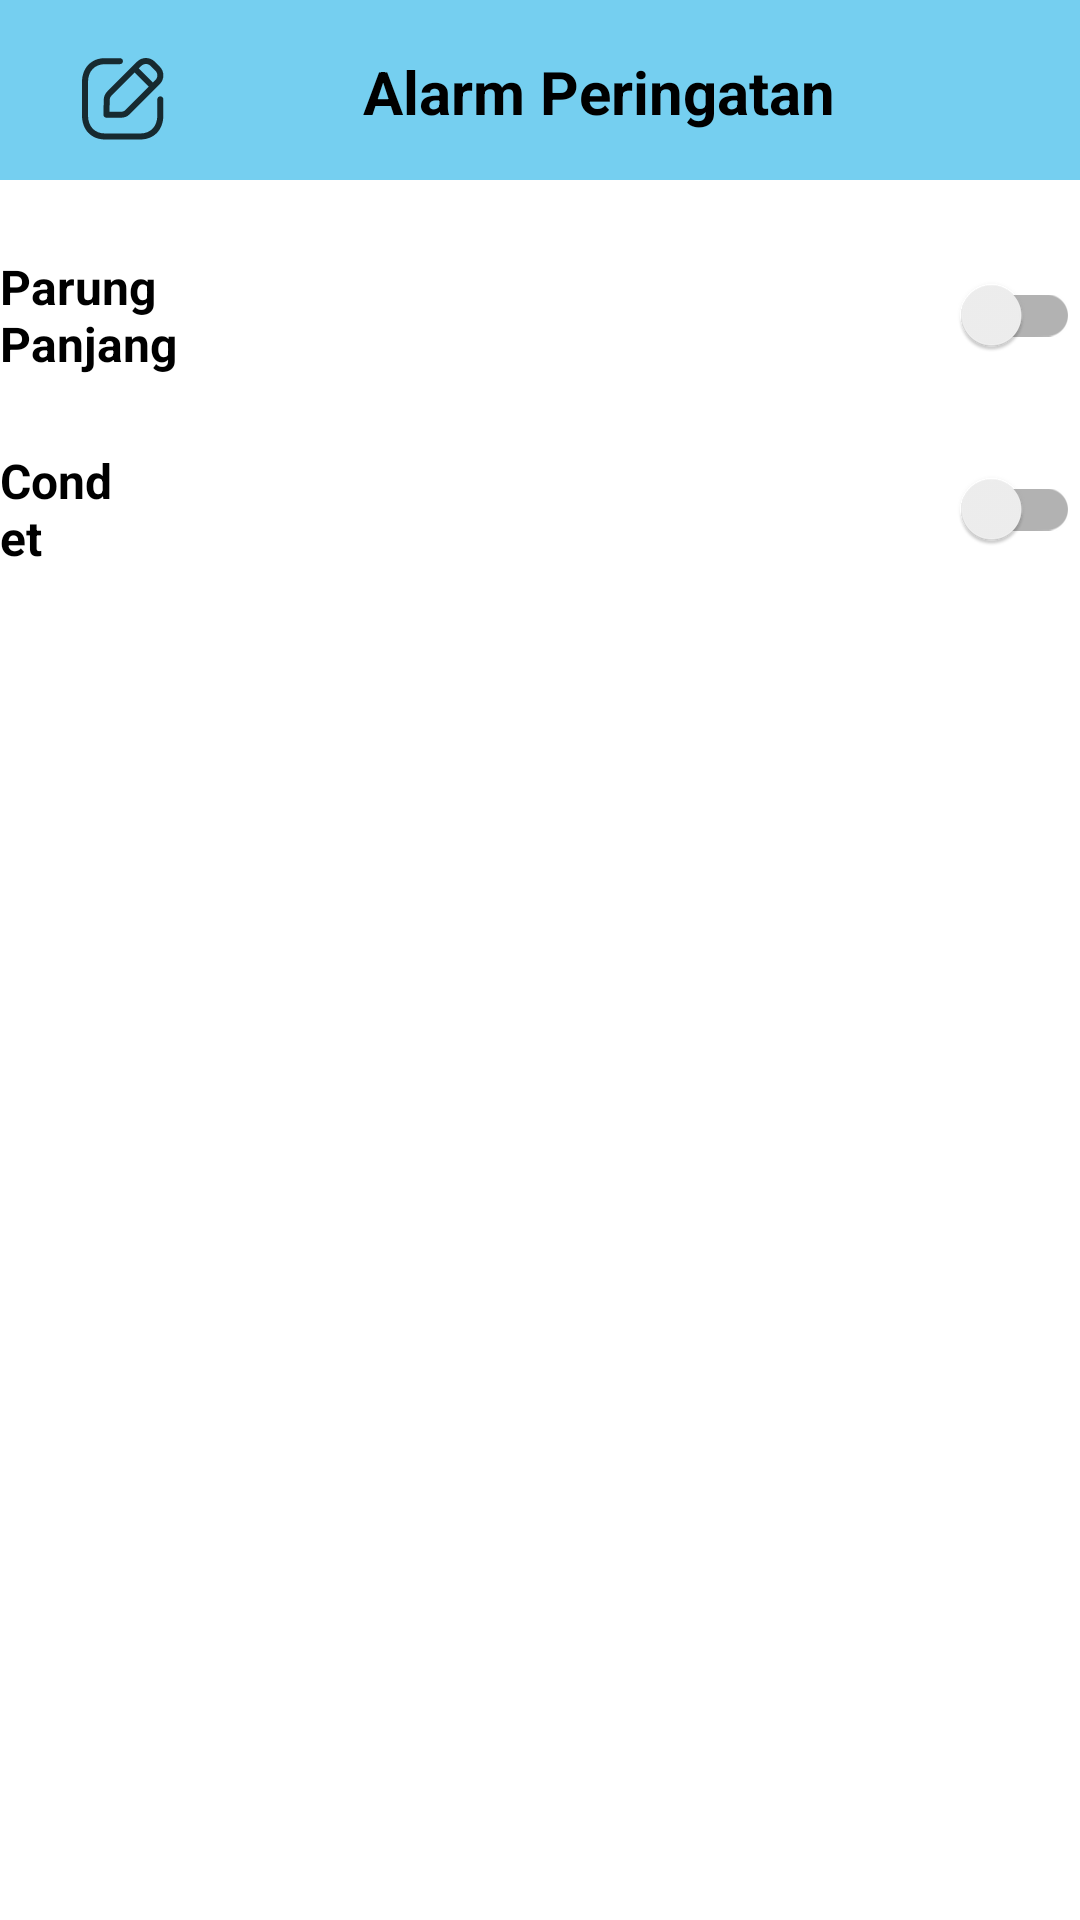

Icon click points for this 1080w x 1920h phone screenshot, format [x,y]:
createicon: [123,99]
